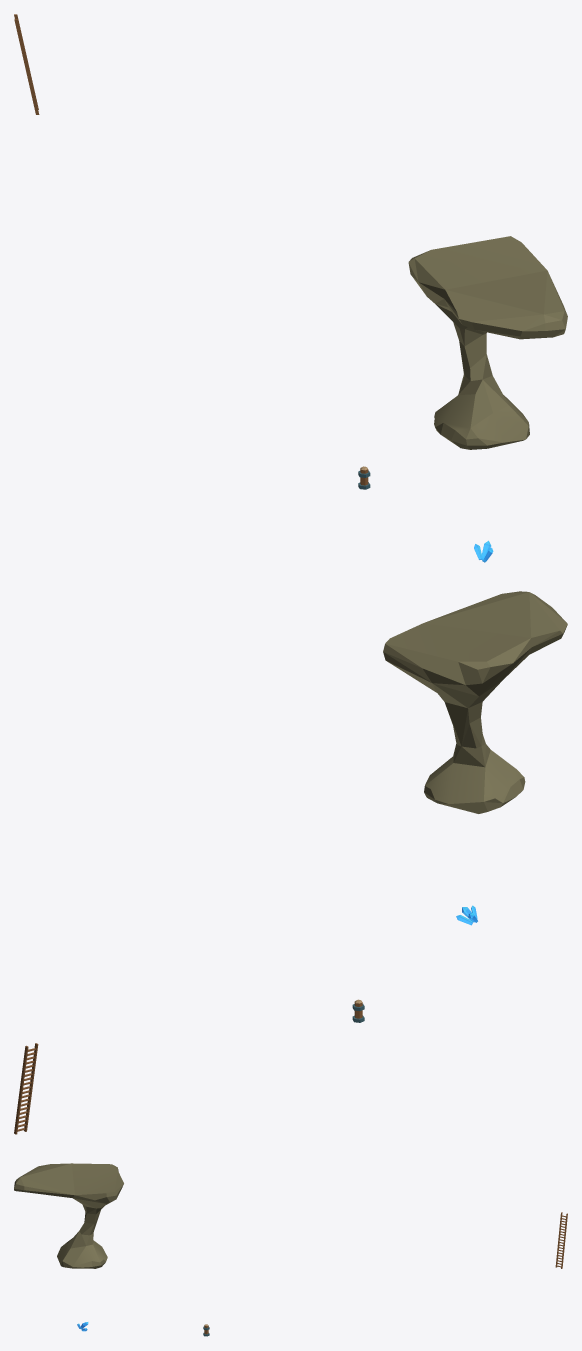
The picture shows the model from 3 angles, top to bottom: view 1: azimuth 30°, elevation 25°; view 2: azimuth 150°, elevation 25°; view 3: azimuth 270°, elevation 25°; orthographic projection. The views are drawn at different scales.
Visible parts, largest first — view 1: Box1000_rock2_0; view 2: Box1000_rock2_0; view 3: Box1000_rock2_0, Box465_brown_0.
Boxes of the visible parts, <box> form: Box1000_rock2_0: <box>408,236,567,449</box>; Box1000_rock2_0: <box>383,591,567,813</box>; Box1000_rock2_0: <box>14,1163,123,1268</box>; Box465_brown_0: <box>555,1212,567,1268</box>.
Size of the model in its own units: 666 by 1596 by 4981.
